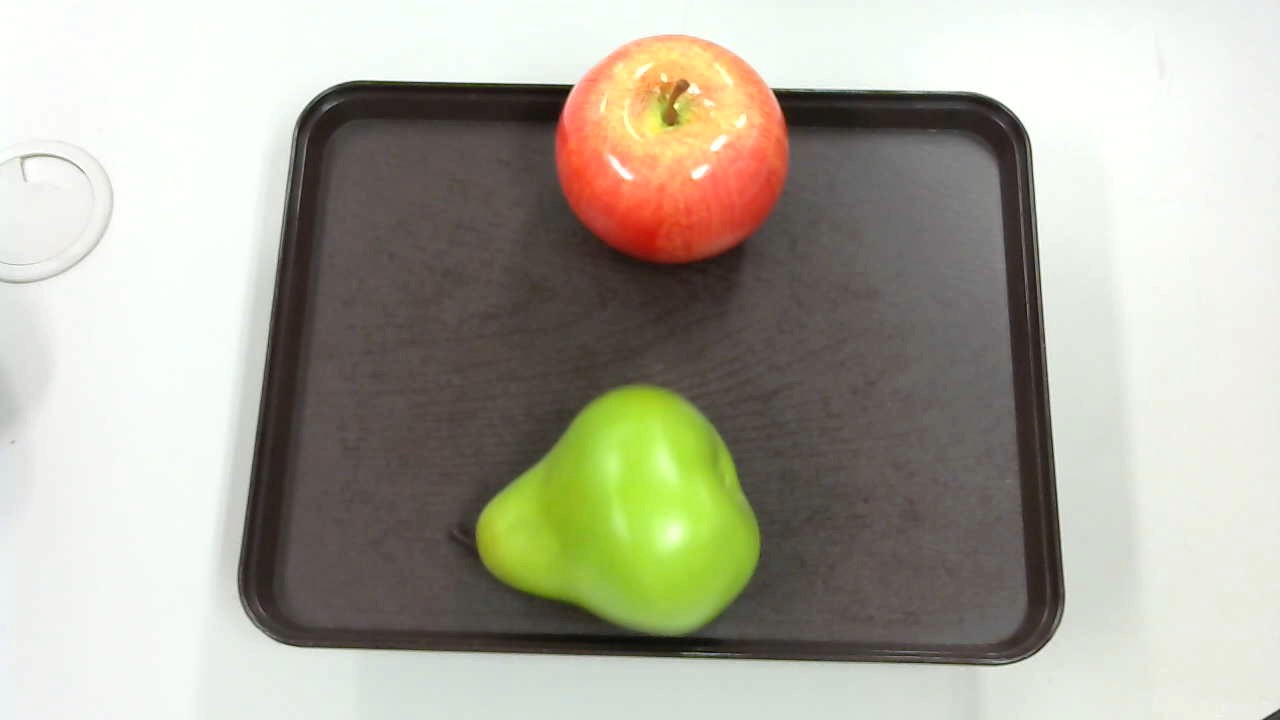green pear: (450, 381, 770, 637)
red apple: (552, 32, 794, 263)
